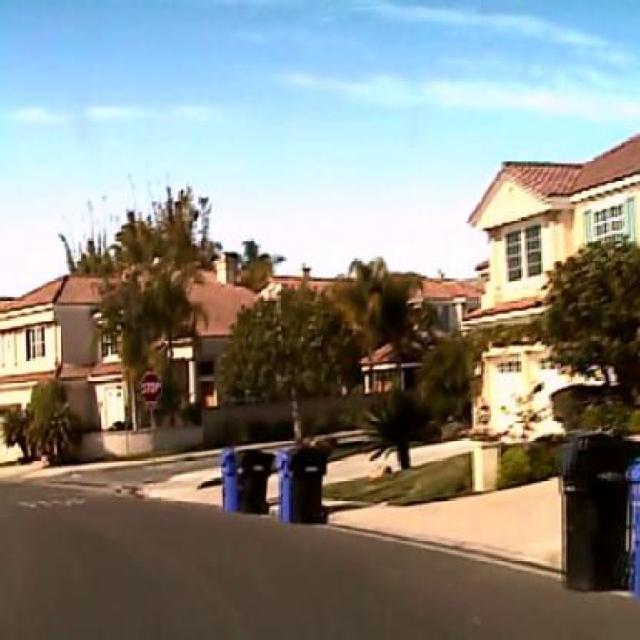stop: (138, 371, 162, 404)
